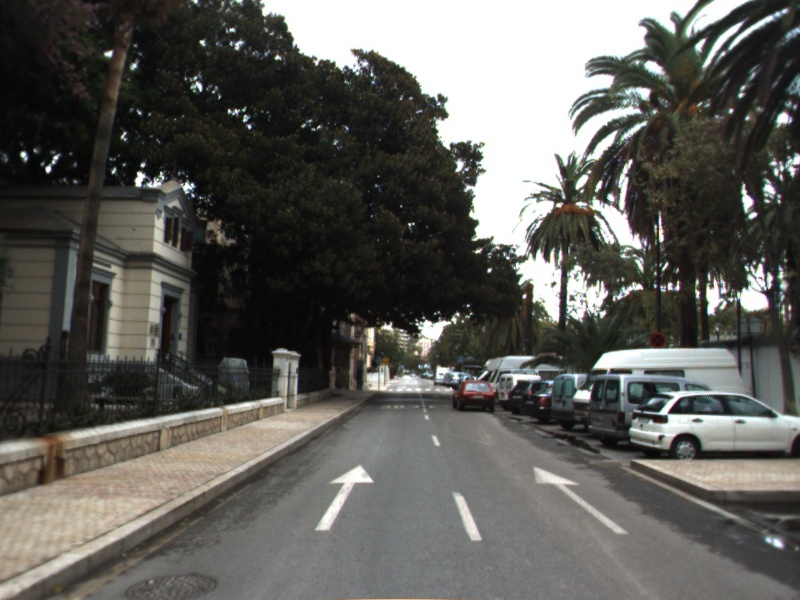STRAIGHT: (532, 464, 631, 537), (313, 463, 377, 533)
